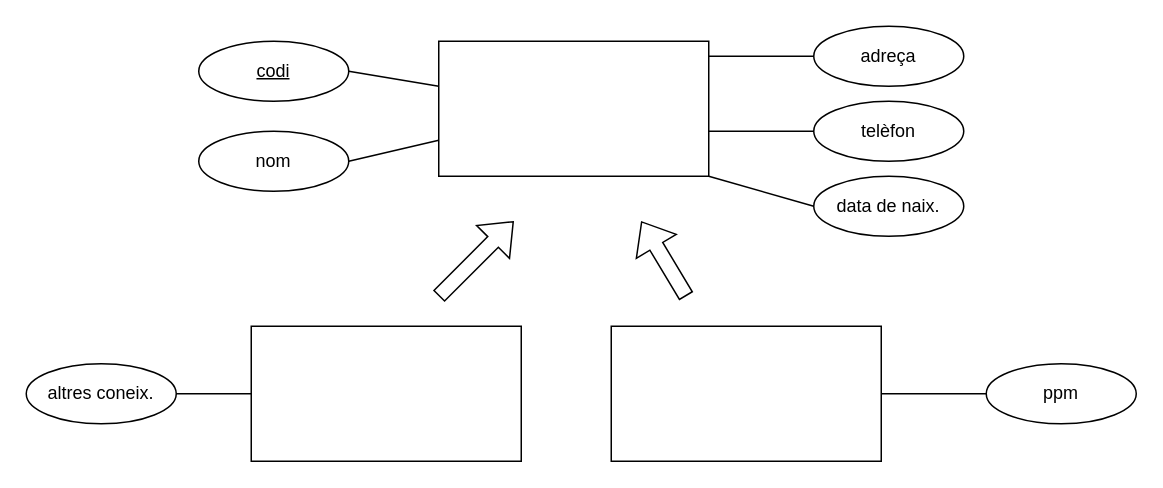
The diagram is 1163 pixels wide and 488 high, and some of its shapes have lost their labels. Each missing label, with the centre of its shape:
"ADMINISTRATIU" belongs at point (745, 393).
"ESTUDIANT" belongs at point (573, 108).
"INFORMÀTICA" belongs at point (385, 393).
